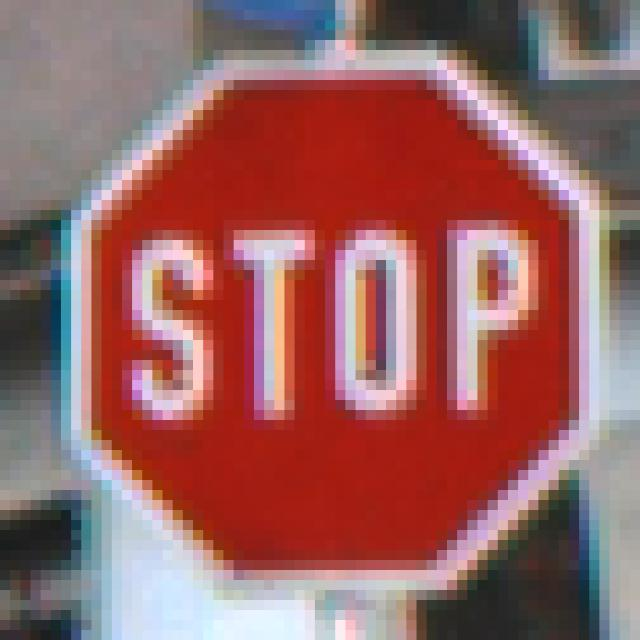STOP: (52, 51, 590, 591)
